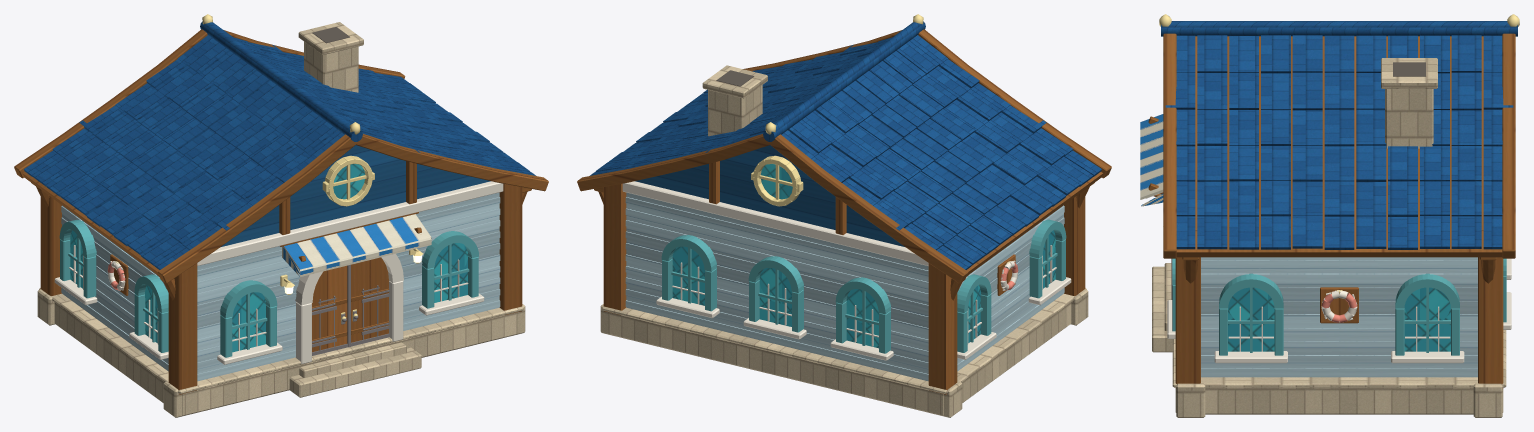
Rendered from boathouse-BGy9m65J.glb.
3 views of the same model, side by side, from view 1: azimuth 30°, elevation 25°; view 2: azimuth 150°, elevation 25°; view 3: azimuth 270°, elevation 25° (orthographic). The views are drawn at different scales.
Visible parts, largest first — view 1: boathouse; view 2: boathouse; view 3: boathouse.
Part boxes in pixels (left/top/right/bottom): boathouse: left=14, top=14, right=548, bottom=417; boathouse: left=577, top=14, right=1111, bottom=417; boathouse: left=1140, top=14, right=1519, bottom=417.
Size of the model in its own units: 8.66 by 5.51 by 6.24.
Materials: 16 (8 with a texture image).
